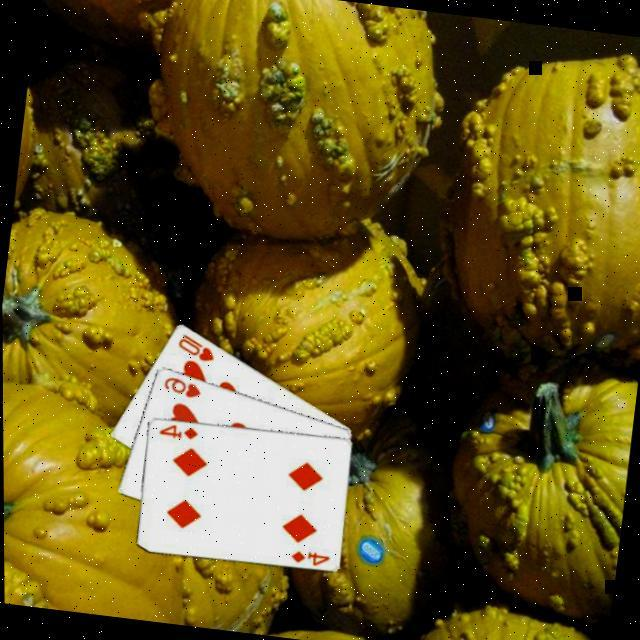10H: (175, 328, 220, 364)
4D: (156, 418, 202, 442), (287, 544, 333, 568)
6H: (160, 372, 205, 401)
